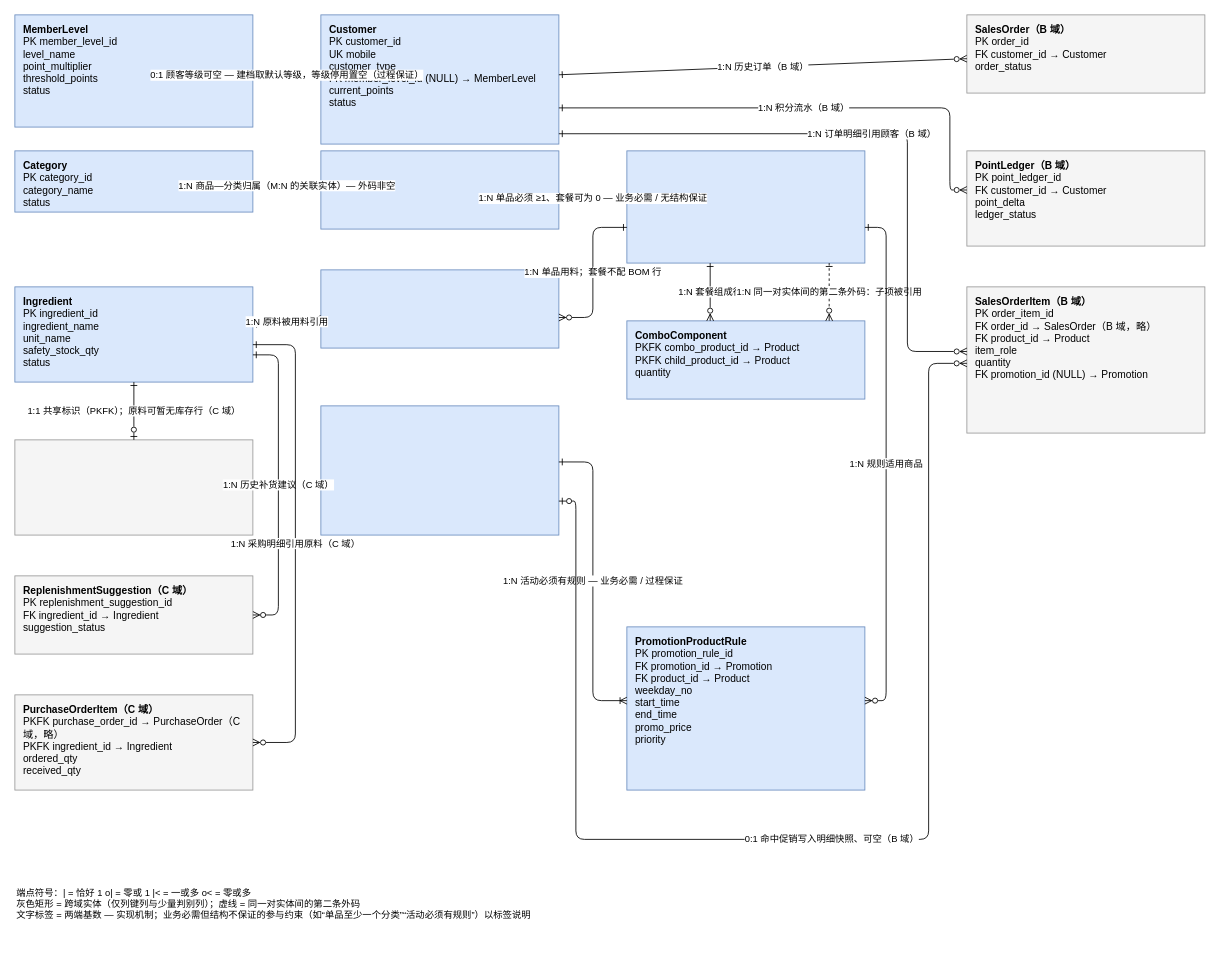
Some shapes in this 1220 by 958 pixel diagram are drawn without their labels. The shapes that lost their labels are listed below. From the top down, each one's centre as x and y in pixels, then its label:
At (x=439, y=189): "ProductCategory PKFK product_id → Product PKFK category_id → Category is_primary".
At (x=745, y=206): "Product PK product_id product_name base_price product_type status".
At (x=439, y=308): "ProductBom PKFK product_id → Product PKFK ingredient_id → Ingredient usage_qty".
At (x=133, y=487): "Inventory（C 域） PKFK ingredient_id → Ingredient on_hand_qty locked_qty updated_at".
At (x=439, y=470): "Promotion PK promotion_id promotion_name promotion_type start_at end_at status".
